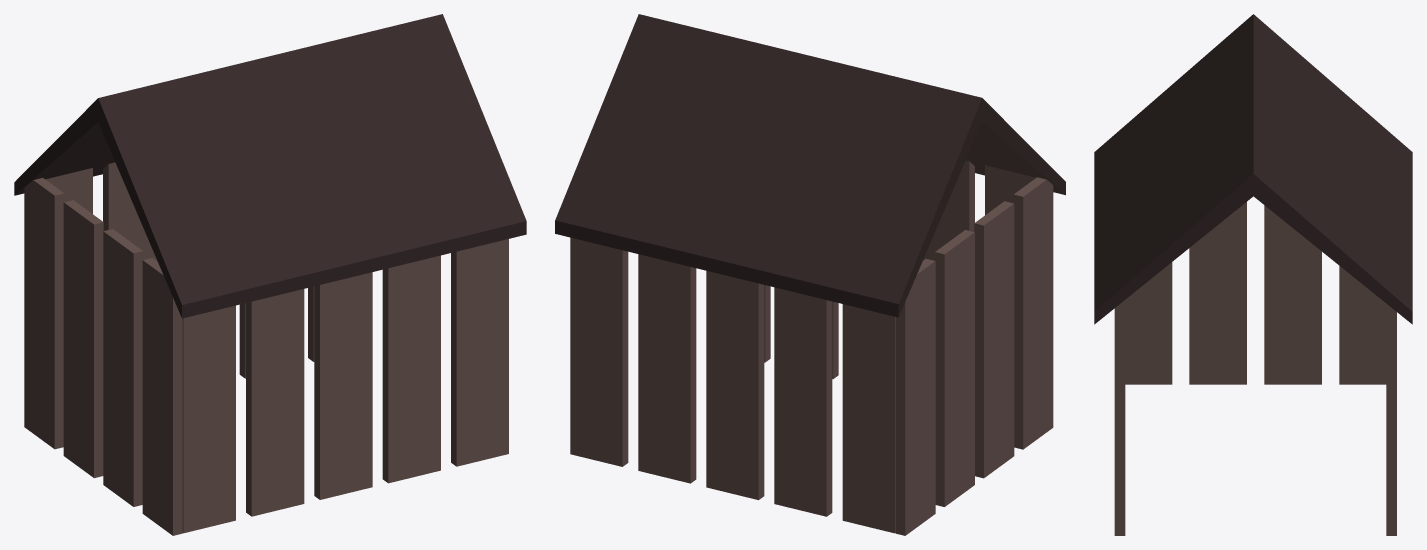
Rendered from build.fbx.
3 views of the same model, side by side, from view 1: azimuth 30°, elevation 25°; view 2: azimuth 150°, elevation 25°; view 3: azimuth 270°, elevation 25° (orthographic). The views are drawn at different scales.
Parts seen in each view (by area): view 1: Cube.001; view 2: Cube.001; view 3: Cube.001.
Part boxes in pixels (x1,y1,x2,y2): Cube.001: (14, 14, 526, 535); Cube.001: (555, 14, 1065, 535); Cube.001: (1094, 14, 1412, 535).
Size of the model in its own units: 1275 by 1361 by 1075.
